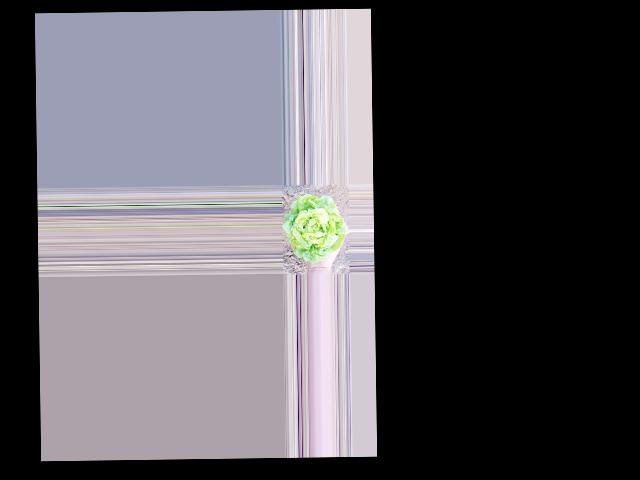lettuce: (283, 192, 346, 259)
